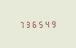five: (39, 19, 45, 27)
four: (46, 19, 52, 27)
nine: (53, 19, 59, 27)
seven: (17, 20, 23, 28)
six: (32, 20, 38, 27)
three: (24, 20, 30, 28)
